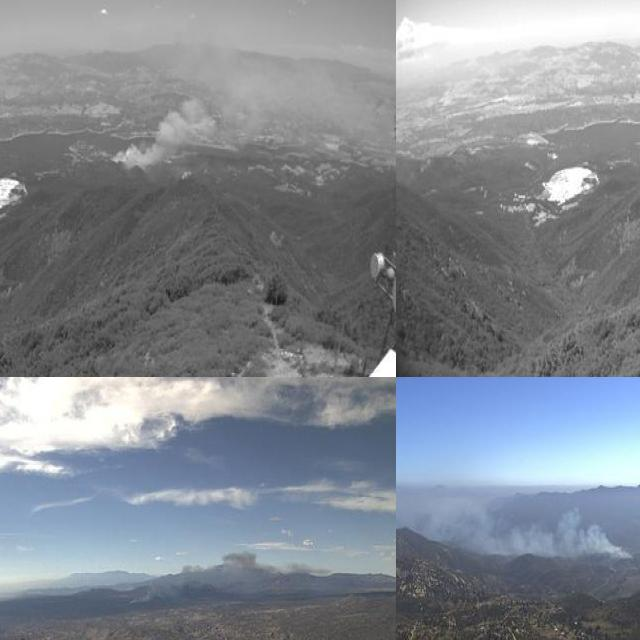smoke: (107, 30, 331, 173), (401, 466, 631, 564), (126, 545, 327, 608)
